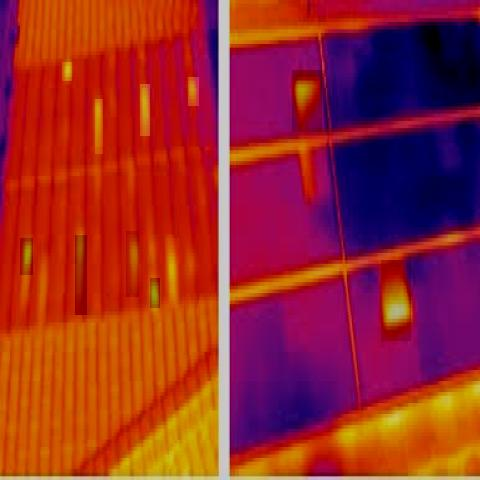fault: (382, 260, 412, 341), (292, 70, 322, 132), (165, 238, 179, 308), (75, 235, 87, 315), (126, 231, 139, 297), (140, 84, 150, 136), (20, 238, 33, 275), (95, 99, 103, 154), (188, 77, 199, 106), (150, 278, 160, 308), (62, 62, 72, 81)
